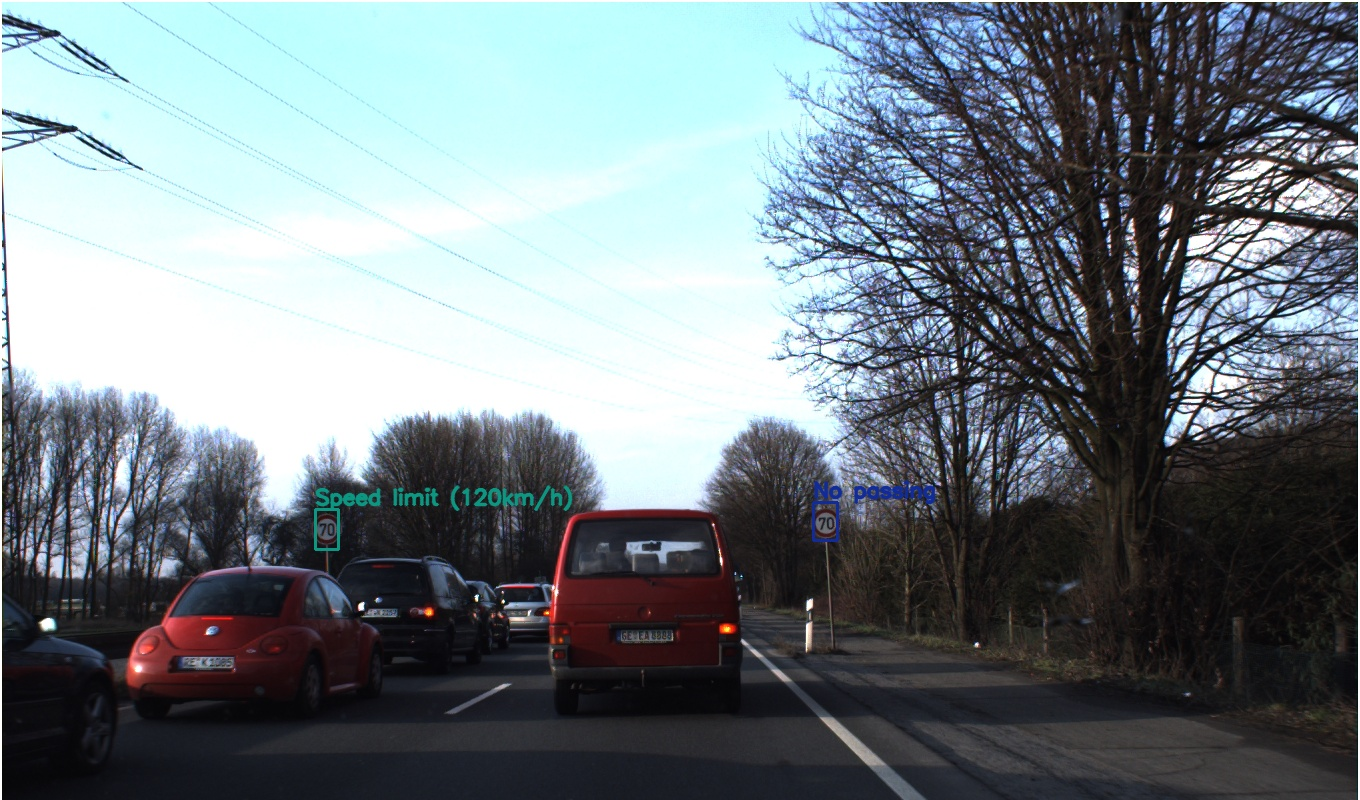Speed limit (70km/h): (925, 466, 949, 490)
